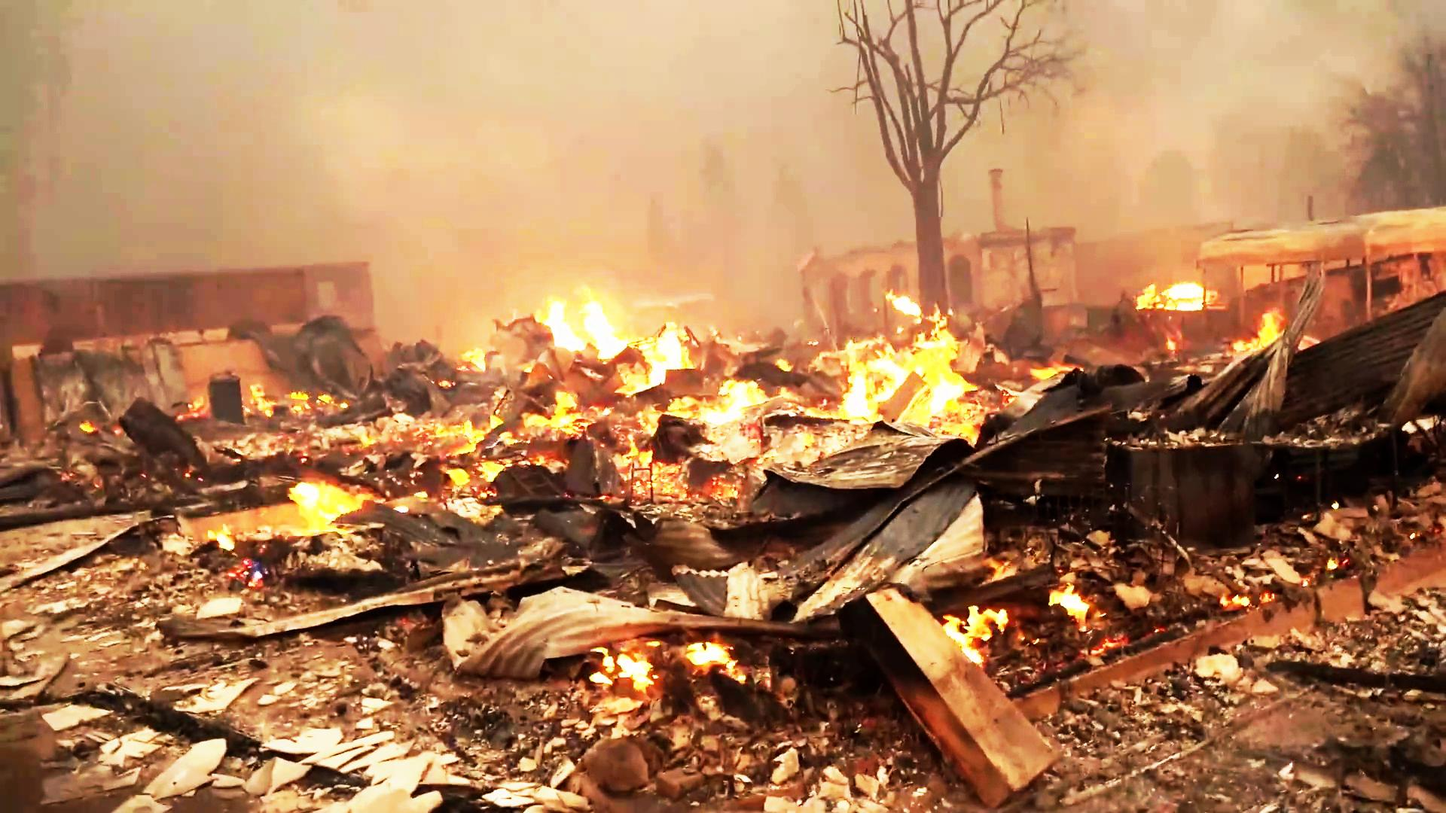fire: (838, 317, 974, 443), (529, 283, 618, 345), (264, 477, 344, 536), (1138, 273, 1209, 321)
smoke: (209, 2, 665, 231)
